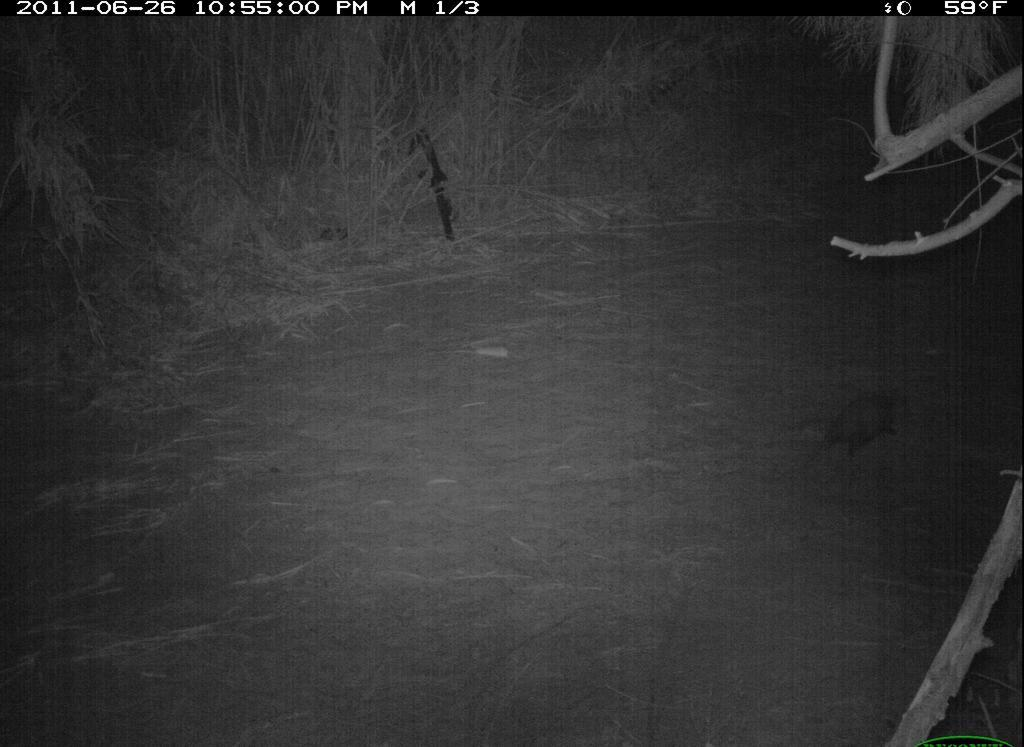opossum: (818, 381, 926, 460)
